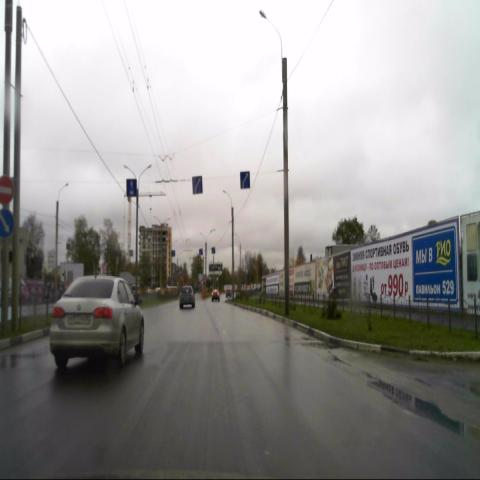4_2_1: (0, 208, 14, 239)
5_14: (126, 178, 137, 197)
5_15_2: (192, 175, 202, 195), (240, 170, 250, 189)
